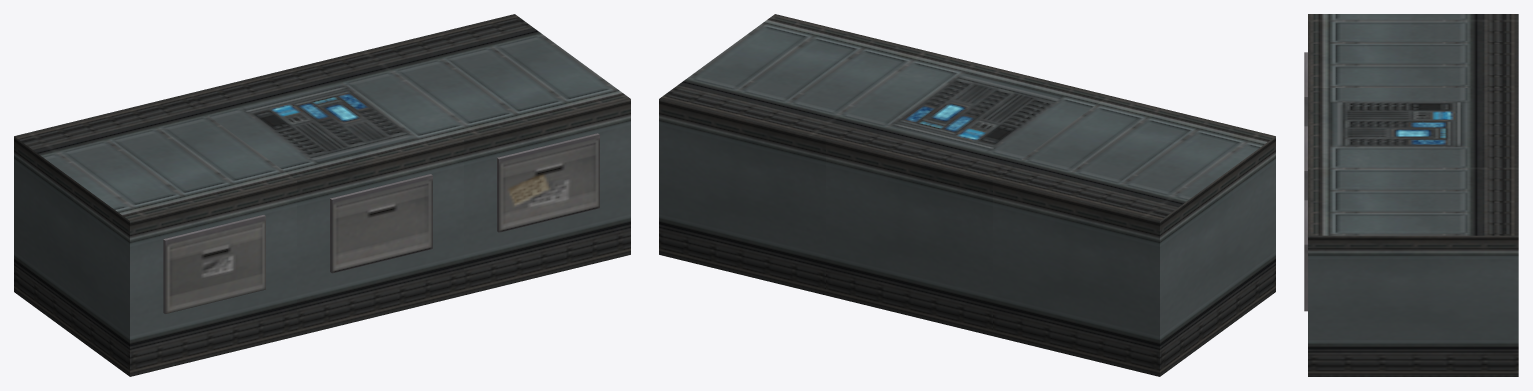
File: computador-interno1.fbx
3 renders of one model, left to right at view 1: azimuth 30°, elevation 25°; view 2: azimuth 150°, elevation 25°; view 3: azimuth 270°, elevation 25°, orthographic. The views are drawn at different scales.
Parts seen in each view (by area): view 1: Cylinder; view 2: Cylinder; view 3: Cylinder.
Boxes of the visible parts, box(x1,y1,x2,y2) form: Cylinder: box(14, 14, 630, 376); Cylinder: box(659, 14, 1275, 376); Cylinder: box(1304, 14, 1518, 376).
Bounding box in the file's own units: 2.97 × 0.8827 × 1.21.
